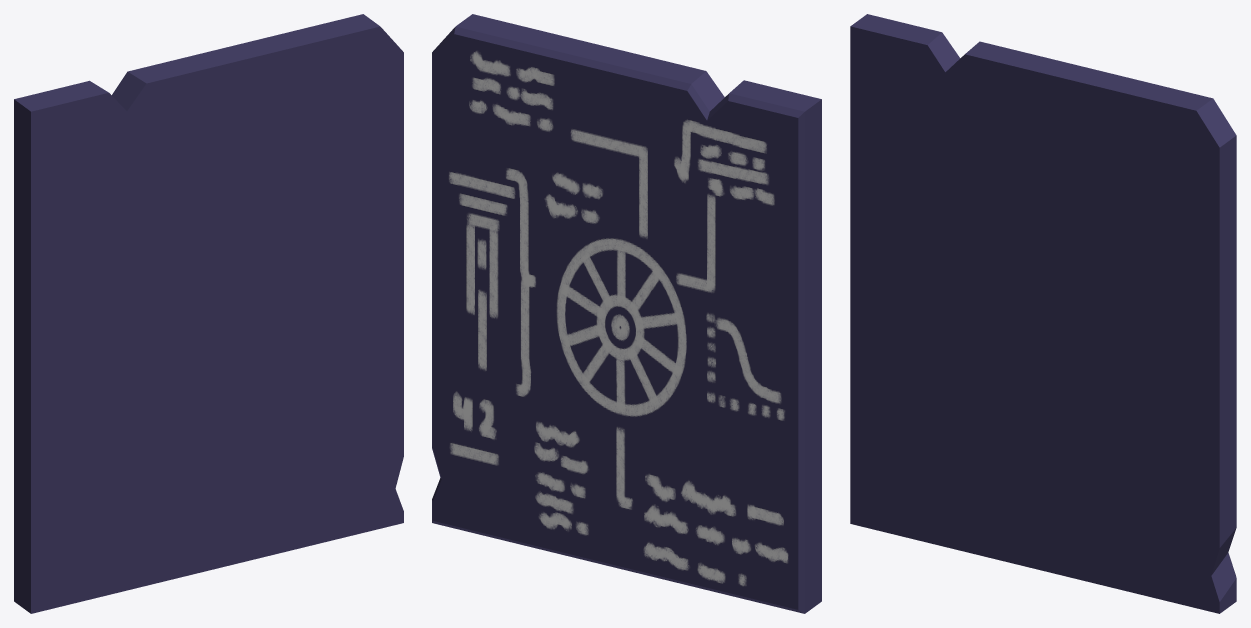
File: Item_blueprint.fbx
The picture shows the model from 3 angles, left to right: view 1: azimuth 30°, elevation 25°; view 2: azimuth 150°, elevation 25°; view 3: azimuth 330°, elevation 25°; orthographic projection.
Parts seen in each view (by area): view 1: Arc_reactor_blueprint.001; view 2: Arc_reactor_blueprint.001; view 3: Arc_reactor_blueprint.001.
Boxes of the visible parts, <box> form: Arc_reactor_blueprint.001: <box>14,14,403,613</box>; Arc_reactor_blueprint.001: <box>432,14,821,613</box>; Arc_reactor_blueprint.001: <box>850,14,1236,613</box>.
Bounding box in the file's own units: 0.6044 × 0.7781 × 0.0559.
Materials: 1 (1 with a texture image).
